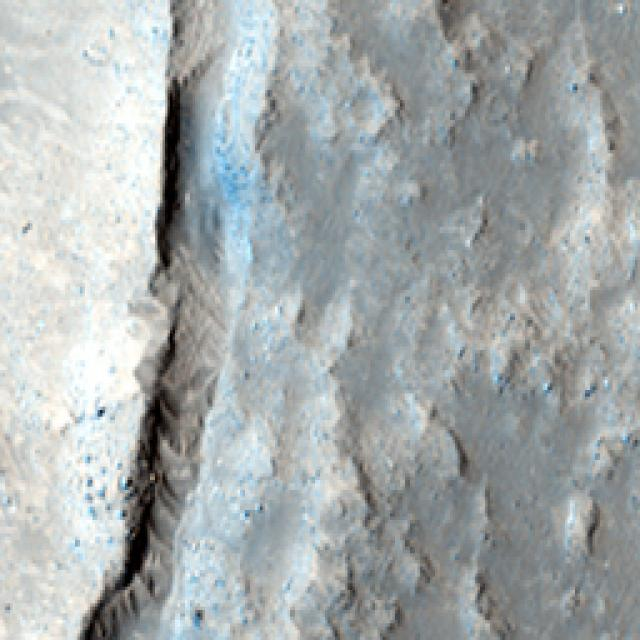Crater: (0, 0, 318, 640)
